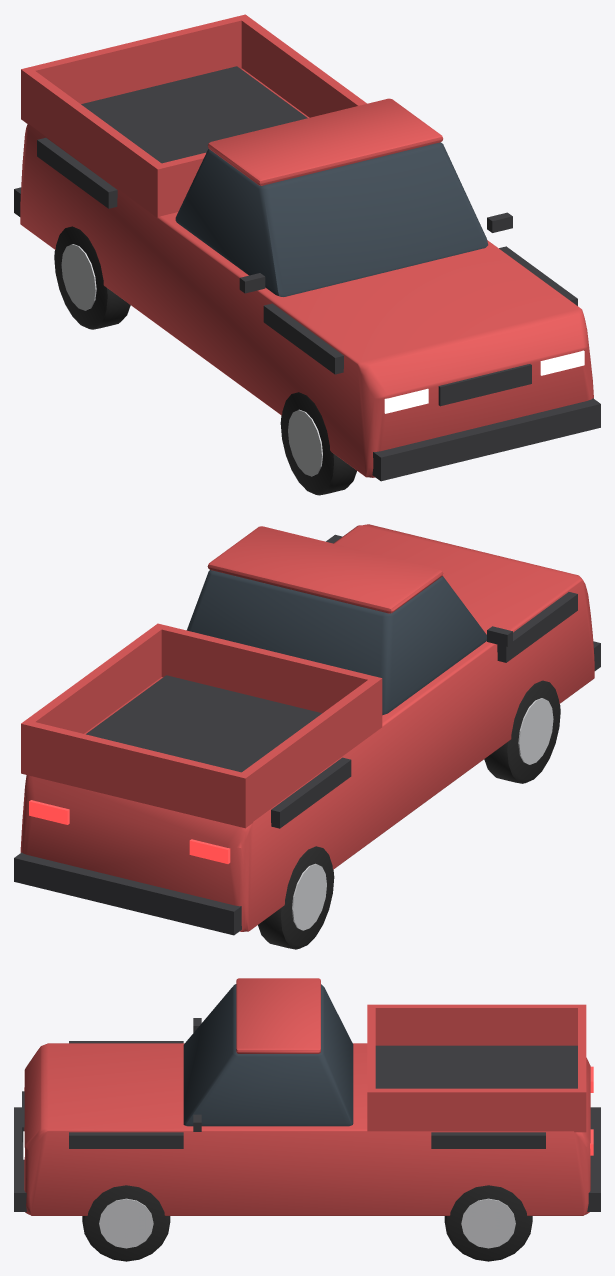
File: car_pickup.glb
The picture shows the model from 3 angles, top to bottom: view 1: azimuth 30°, elevation 25°; view 2: azimuth 150°, elevation 25°; view 3: azimuth 270°, elevation 25°; orthographic projection. The views are drawn at different scales.
Visible parts, largest first — view 1: body, wheel_fr, wheel_rr; view 2: body, wheel_fr, wheel_rr; view 3: body, wheel_fl, wheel_rl.
Boxes of the visible parts, x1,y1,x2,y2 form: body: [14, 14, 600, 481]; wheel_fr: [280, 392, 356, 495]; wheel_rr: [54, 226, 130, 329]; body: [14, 524, 600, 935]; wheel_fr: [484, 680, 560, 783]; wheel_rr: [258, 846, 334, 949]; body: [14, 978, 600, 1215]; wheel_fl: [82, 1185, 170, 1261]; wheel_rl: [444, 1185, 532, 1261].
Size of the model in its own units: 2.36 by 2.16 by 5.6.
